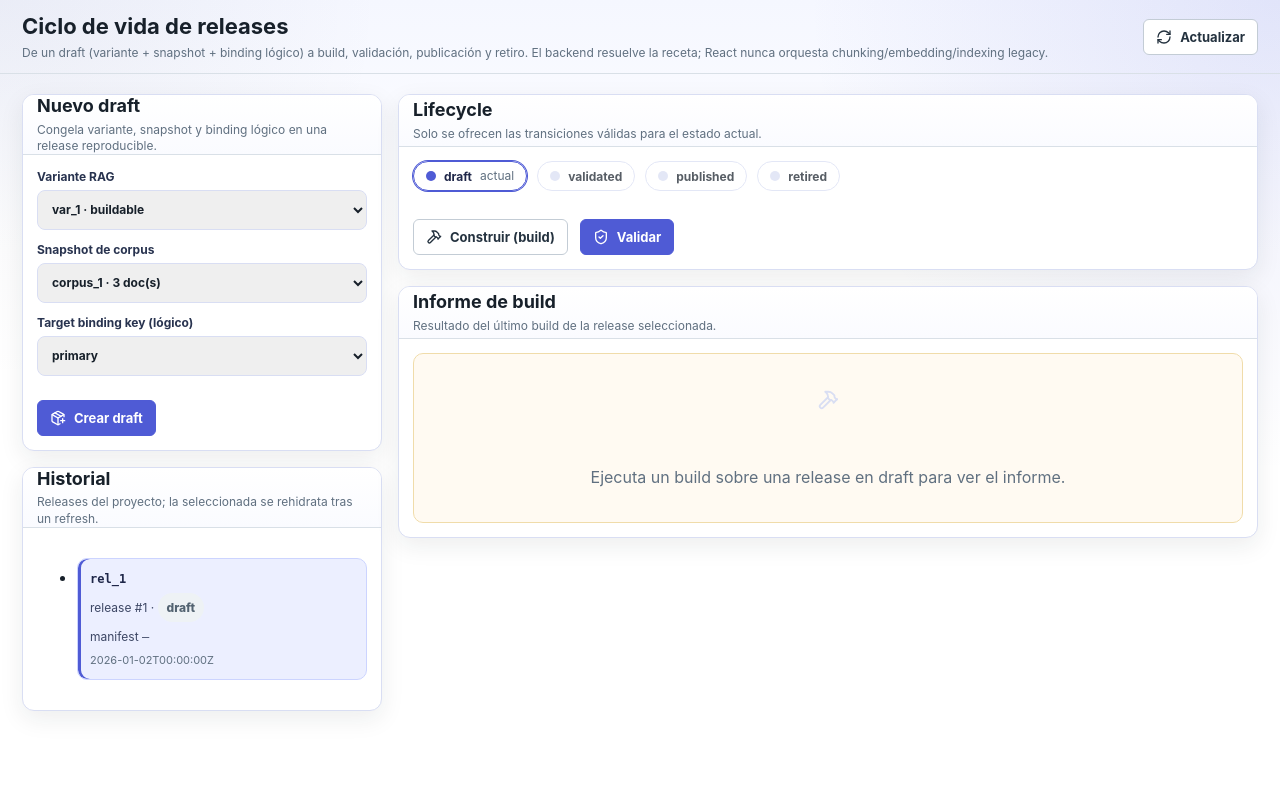
Test: RagReleaseWorkspace › (b) build muestra el informe (revisions_built / reused / built)
The width and height of the screenshot is (1280, 800).
Click the button "Construir (build)". click: (490, 237)
box: [413,219,568,255]
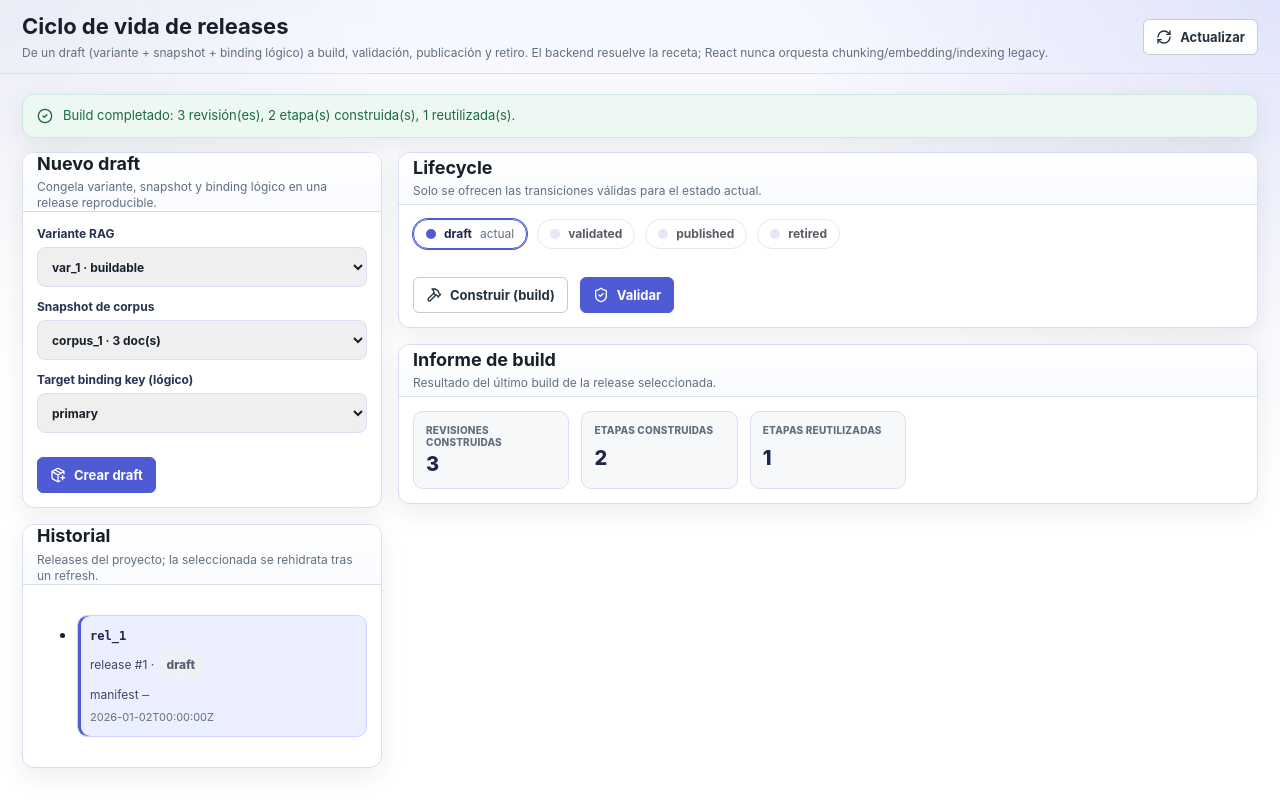
Check: the text "Revisiones construidas" is shown, box [426,424,502,448]
Check: the text "Etapas construidas" is shown, box [594,424,725,442]
Check: the text "Etapas reutilizadas" is shown, box [763,424,893,442]
